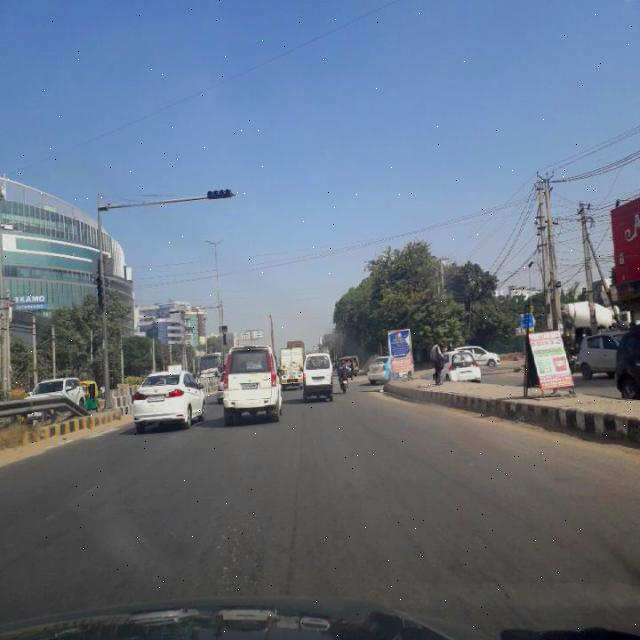D20: (202, 479, 287, 589)
